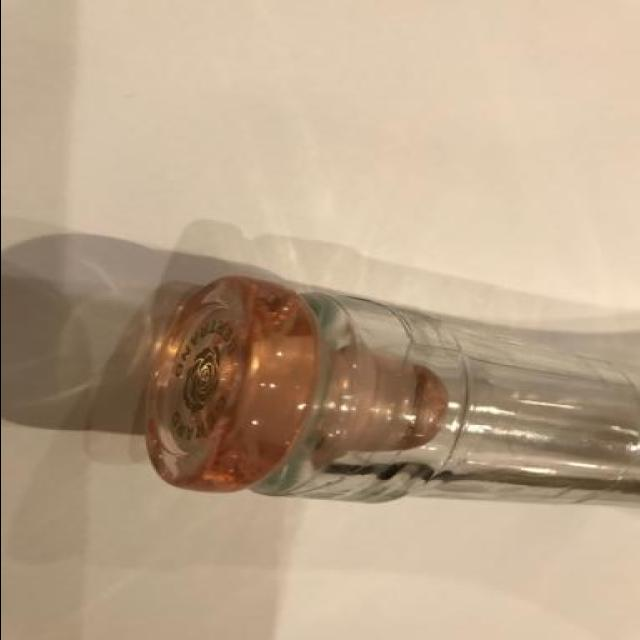litter: (140, 272, 638, 522)
